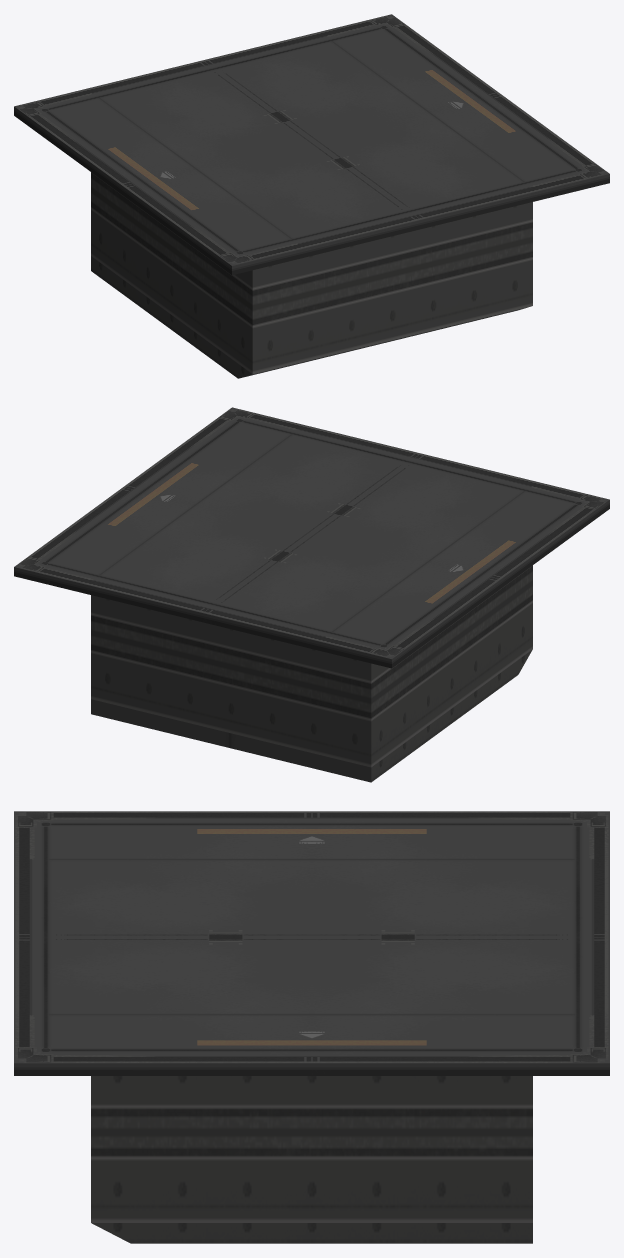
The model's file is PlataformConectCables.fbx.
The picture shows the model from 3 angles, top to bottom: view 1: azimuth 30°, elevation 25°; view 2: azimuth 150°, elevation 25°; view 3: azimuth 270°, elevation 25°; orthographic projection. The views are drawn at different scales.
Visible parts, largest first — view 1: PlataformConectCables; view 2: PlataformConectCables; view 3: PlataformConectCables.
Part boxes in pixels (x1,y1,x2,y2): PlataformConectCables: [14, 14, 609, 378]; PlataformConectCables: [14, 407, 609, 782]; PlataformConectCables: [14, 811, 609, 1243].
Bounding box in the file's own units: 270 × 106 × 270.
Materials: 1 (1 with a texture image).
